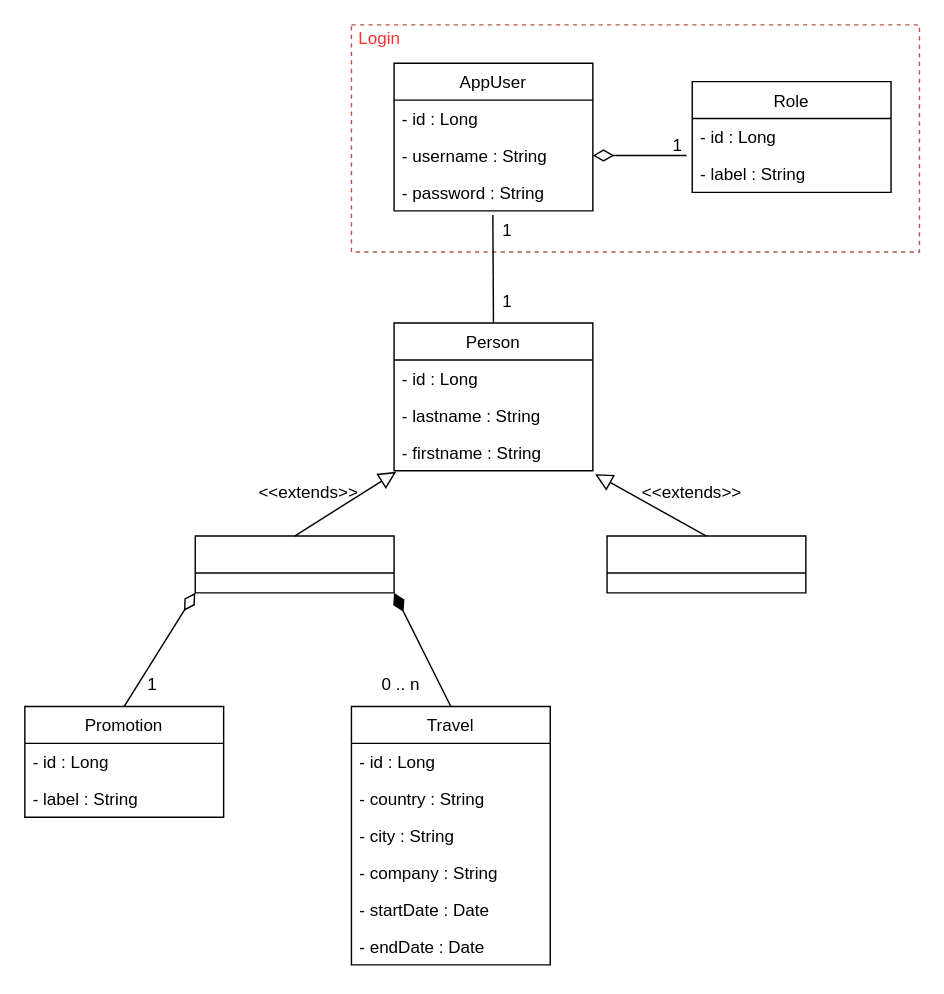
Image size: 944x994. Some labels were removed from this diagram. The shapes that lost their labels are listed below. From the top down, each one's centre as x and y in pixels, then its label:
At (294,564): "Student".
At (706,564): "Teacher".
